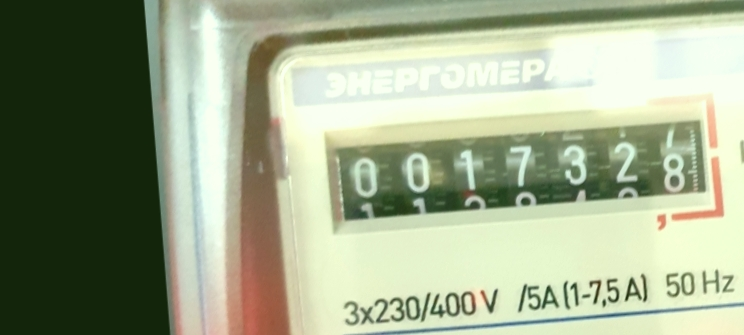0: (348, 153, 384, 200), (402, 147, 434, 194)
1: (456, 144, 481, 192)
2: (609, 138, 641, 185)
3: (560, 141, 590, 186)
7: (506, 141, 536, 190)
8: (659, 150, 688, 194)
screen: (314, 92, 733, 252)
